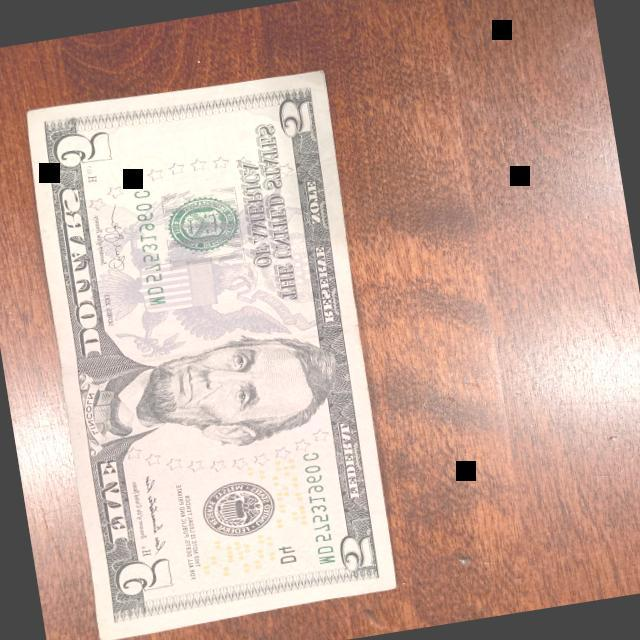five: (16, 62, 408, 640)
